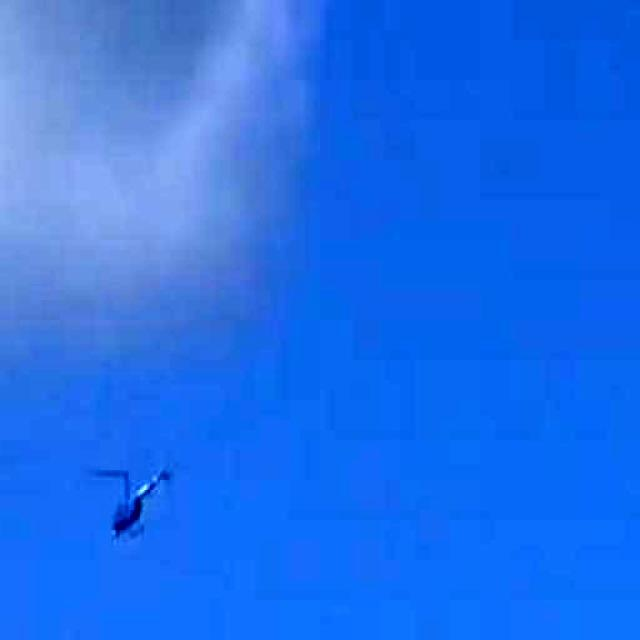drone: (66, 436, 198, 570)
